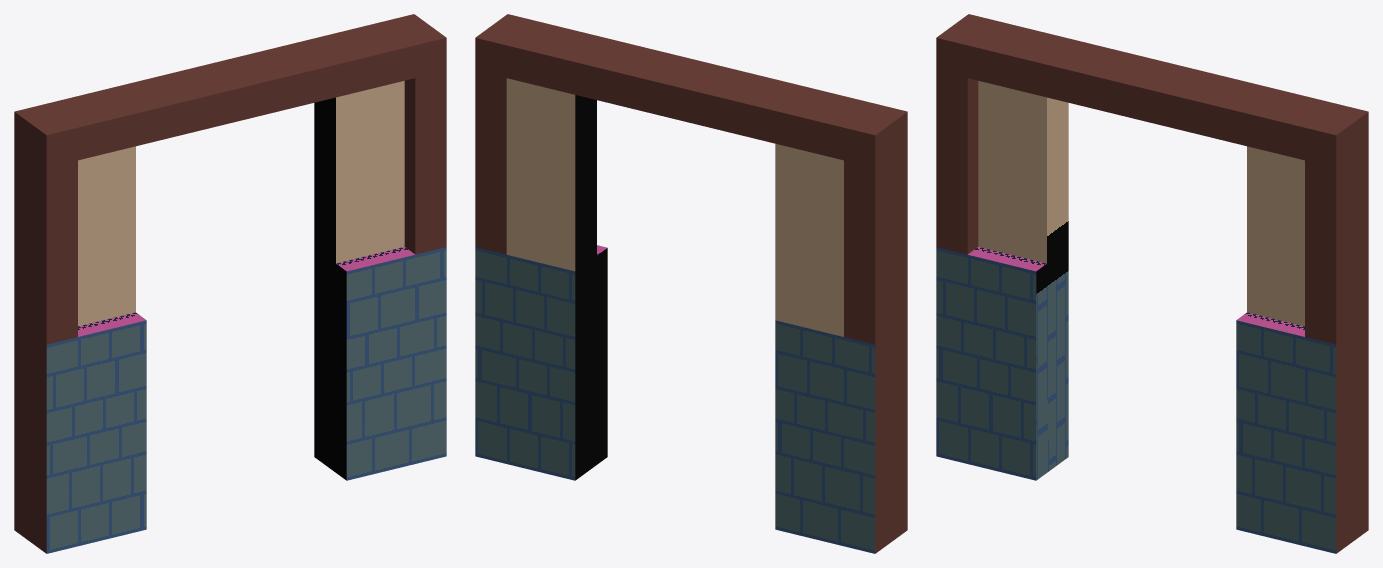
Rendered from pixel_art_128x128_wall-town-door-frame.glb.
3 views of the same model, side by side, from view 1: azimuth 30°, elevation 25°; view 2: azimuth 150°, elevation 25°; view 3: azimuth 330°, elevation 25° (orthographic).
Visible parts, largest first — view 1: Cube; view 2: Cube; view 3: Cube.
Boxes of the visible parts, x1,y1,x2,y2 form: Cube: (14, 14, 446, 553); Cube: (475, 14, 907, 553); Cube: (936, 14, 1368, 553).
Bounding box in the file's own units: 2 × 2 × 0.2812.
1 material, 1 textured.
